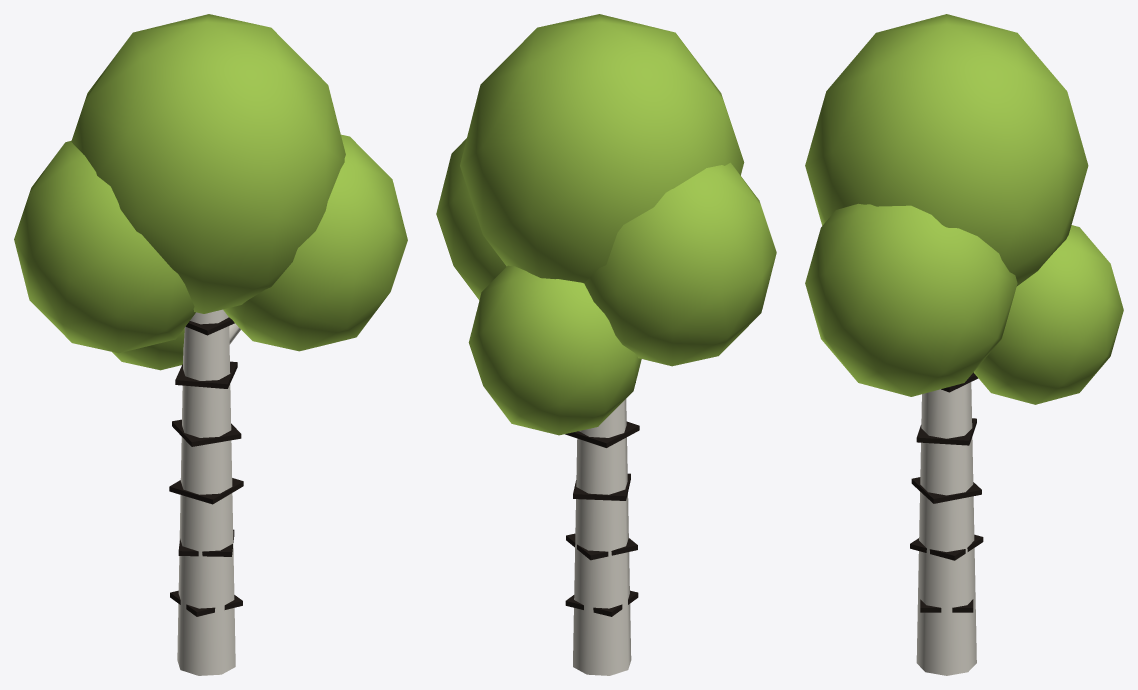
File: birch.glb
3 renders of one model, left to right at view 1: azimuth 30°, elevation 25°; view 2: azimuth 150°, elevation 25°; view 3: azimuth 270°, elevation 25°, orthographic.
Parts seen in each view (by area): view 1: birch; view 2: birch; view 3: birch.
Boxes of the visible parts, x1,y1,x2,y2 form: birch: (14,14,407,675); birch: (436,14,776,675); birch: (805,14,1123,675).
Bounding box in the file's own units: 2.2 × 3.98 × 1.8.
